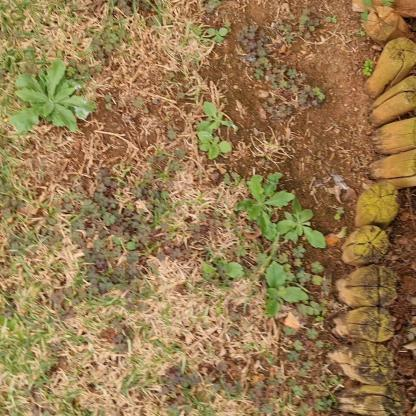Weeds: (11, 61, 95, 136), (237, 173, 295, 246), (277, 194, 327, 249), (265, 261, 308, 317), (197, 101, 237, 137), (197, 129, 232, 159), (203, 258, 245, 280), (207, 26, 228, 43)
